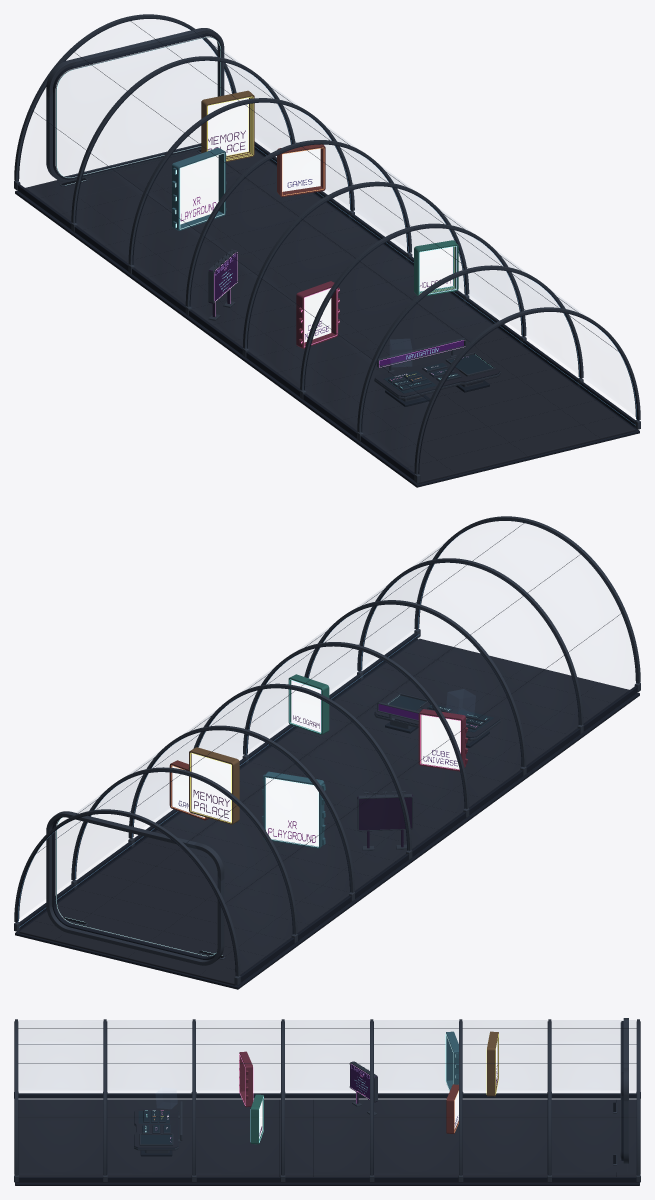
Rendered from lightcone-v13-from-v12.glb.
3 views of the same model, one above another, from view 1: azimuth 30°, elevation 25°; view 2: azimuth 150°, elevation 25°; view 3: azimuth 270°, elevation 25° (orthographic). The views are drawn at different scales.
Parts seen in each view (by area): view 1: Light Cells / continuous reflective floor, Load-bearing deck foundation, Low pressure coaming -1, Observation pressure frame, Low pressure coaming 1, LC play / front chromatic field, LC memory / front chromatic field, Observation threshold, Elliptic pressure rib 00, Elliptic pressure rib 01, Observation recessed optical reveal, Elliptic pressure rib 02 (+21 smaller); view 2: Light Cells / continuous reflective floor, Load-bearing deck foundation, Observation pressure frame, Low pressure coaming -1, LC play / reverse chromatic field, Low pressure coaming 1, LC memory / reverse chromatic field, LC engine / reverse chromatic field, Elliptic pressure rib 07, Elliptic pressure rib 06, Elliptic pressure rib 00, Elliptic pressure rib 01 (+19 smaller); view 3: Light Cells / continuous reflective floor, Low pressure coaming -1, Load-bearing deck foundation, Low pressure coaming 1, Observation threshold, Observation pressure frame, LC console / stepped optical upper deck, LC memory / monolithic outer shell, LC engine / monolithic outer shell, LC play / monolithic outer shell, Elliptic pressure rib 01, Elliptic pressure rib 02 (+23 smaller).
Boxes of the visible parts, x1,y1,x2,y2 form: Light Cells / continuous reflective floor: (25,151,635,483); Load-bearing deck foundation: (15,150,639,487); Low pressure coaming -1: (17,184,414,480); Observation pressure frame: (46,28,224,182); Low pressure coaming 1: (254,141,634,427); LC play / front chromatic field: (180,155,218,224); LC memory / front chromatic field: (208,98,248,155); Observation threshold: (50,152,200,200); Elliptic pressure rib 00: (414,307,640,474); Elliptic pressure rib 01: (357,265,583,432); Observation recessed optical reveal: (53,34,222,179); Elliptic pressure rib 02: (300,223,526,390); Light Cells / continuous reflective floor: (19,638,629,985); Load-bearing deck foundation: (15,639,639,989); Observation pressure frame: (46,811,224,965); Low pressure coaming -1: (240,686,637,982); LC play / reverse chromatic field: (266,778,318,846); Low pressure coaming 1: (20,632,417,929); LC memory / reverse chromatic field: (191,753,231,822); LC engine / reverse chromatic field: (421,715,460,769); Elliptic pressure rib 07: (14,809,240,976); Elliptic pressure rib 06: (71,767,297,934); Elliptic pressure rib 00: (414,516,640,683); Elliptic pressure rib 01: (357,558,583,725); Light Cells / continuous reflective floor: (16,1099,638,1182); Low pressure coaming -1: (18,1093,636,1098); Load-bearing deck foundation: (15,1099,639,1185); Low pressure coaming 1: (18,1177,636,1181); Observation threshold: (602,1108,627,1172); Observation pressure frame: (623,1018,628,1163); LC console / stepped optical upper deck: (134,1109,178,1147); LC memory / monolithic outer shell: (487,1031,498,1096); LC engine / monolithic outer shell: (239,1051,252,1107); LC play / monolithic outer shell: (446,1031,458,1090); Elliptic pressure rib 01: (103,1019,106,1175); Elliptic pressure rib 02: (192,1019,195,1175).
Bounding box in the file's own units: 35.94 × 22.85 × 112.
